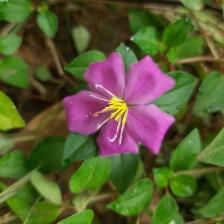malabar melastome: (65, 55, 179, 162)
